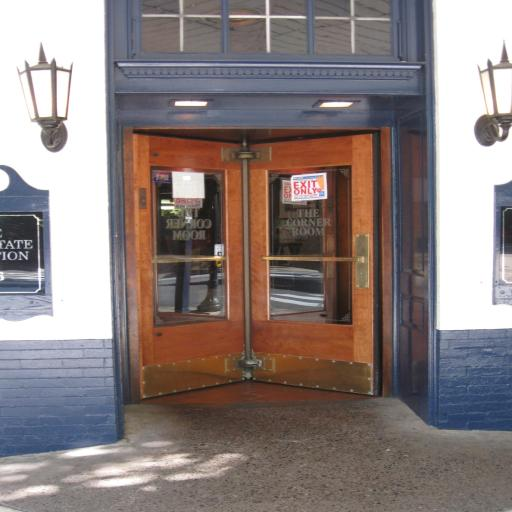Door: (123, 125, 393, 404)
